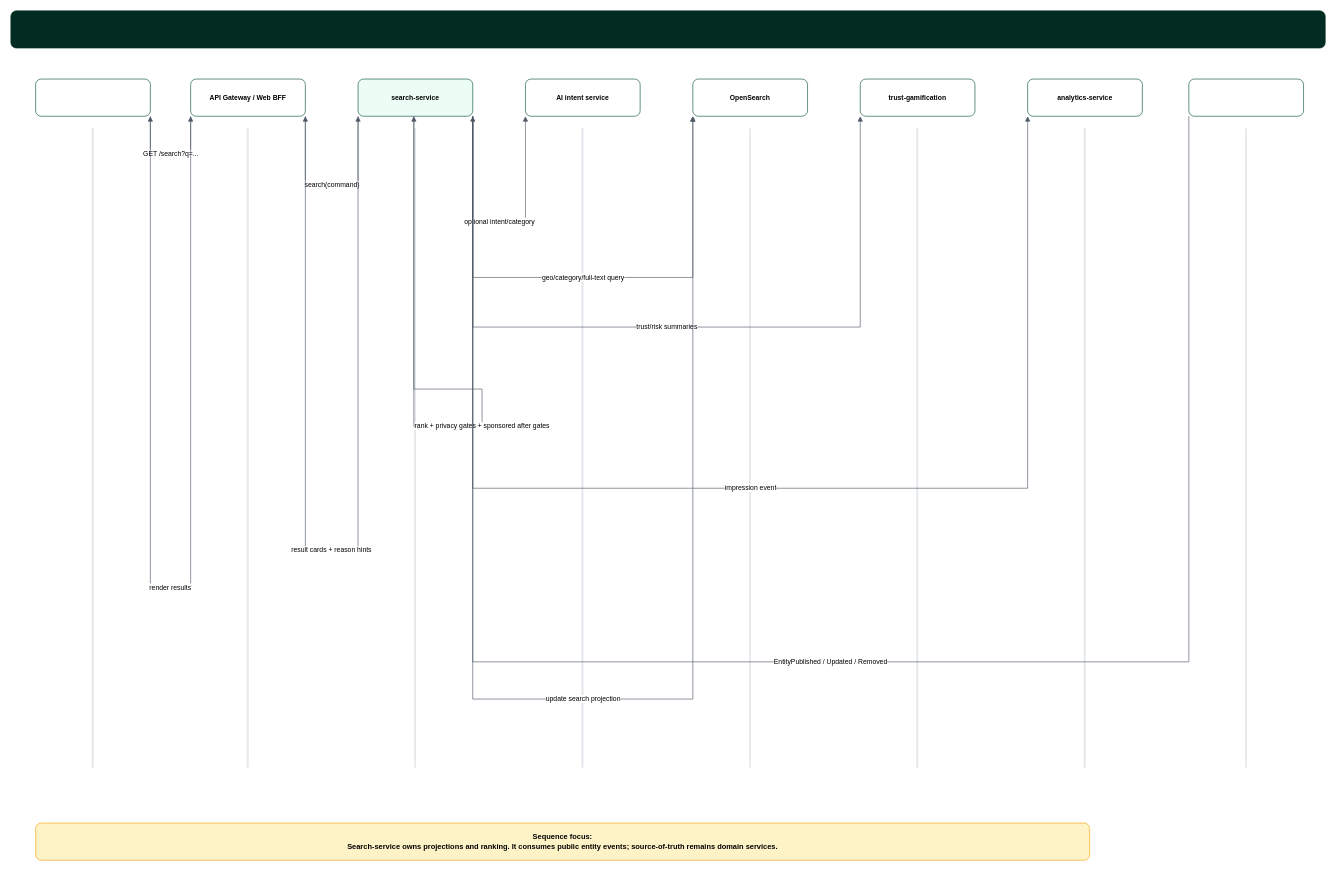
Image size: 1336x871. Some labels were removed from this diagram. Here are the shapes that lost their labels. From the top down, the centre of each, then its label:
At point 667,29: "Viaverse Search / SEO / Indexing — Sequence Diagram".
At point 92,97: "Client / Guest".
At point 1246,97: "Kafka / Outbox".
